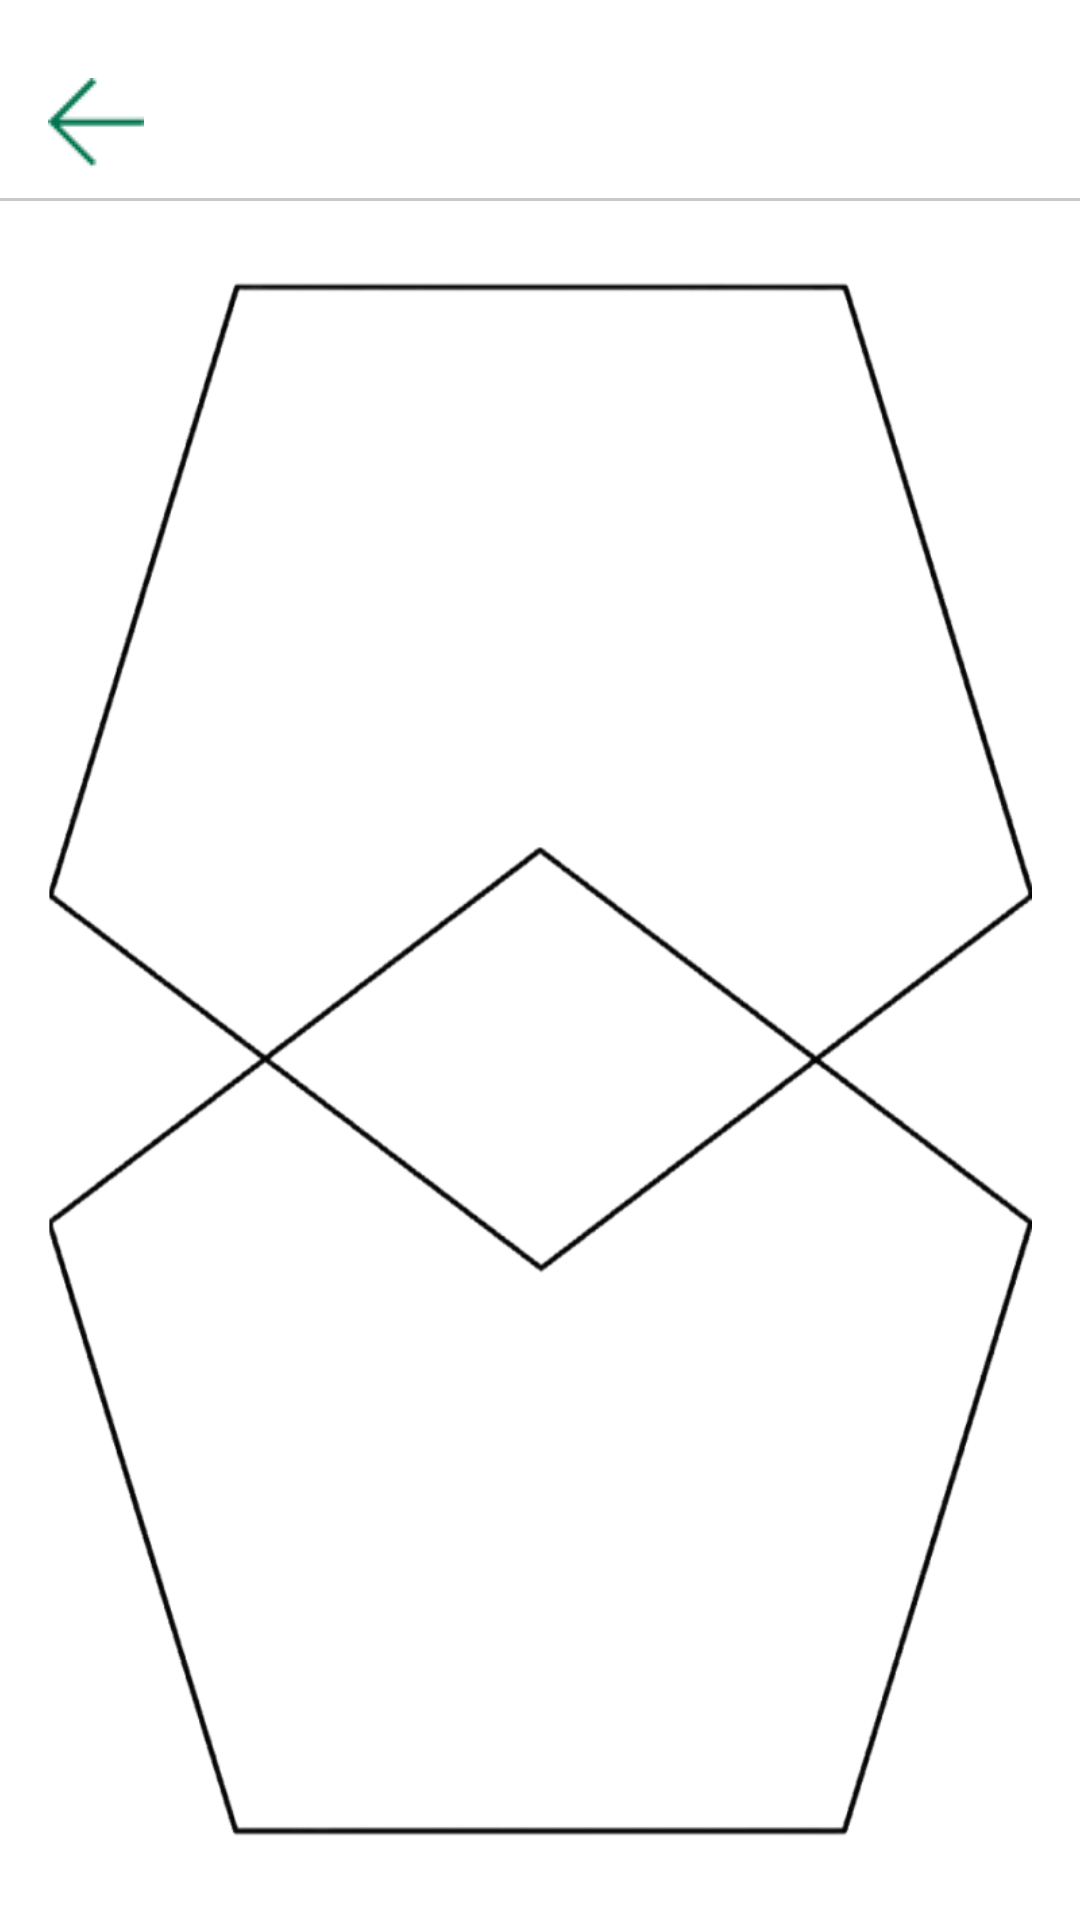

Icon bounding boxes for this 1080 x 1920 phone screenshot, format (x1, y1, x2, y2):
Voltar: (48, 78, 144, 166)
